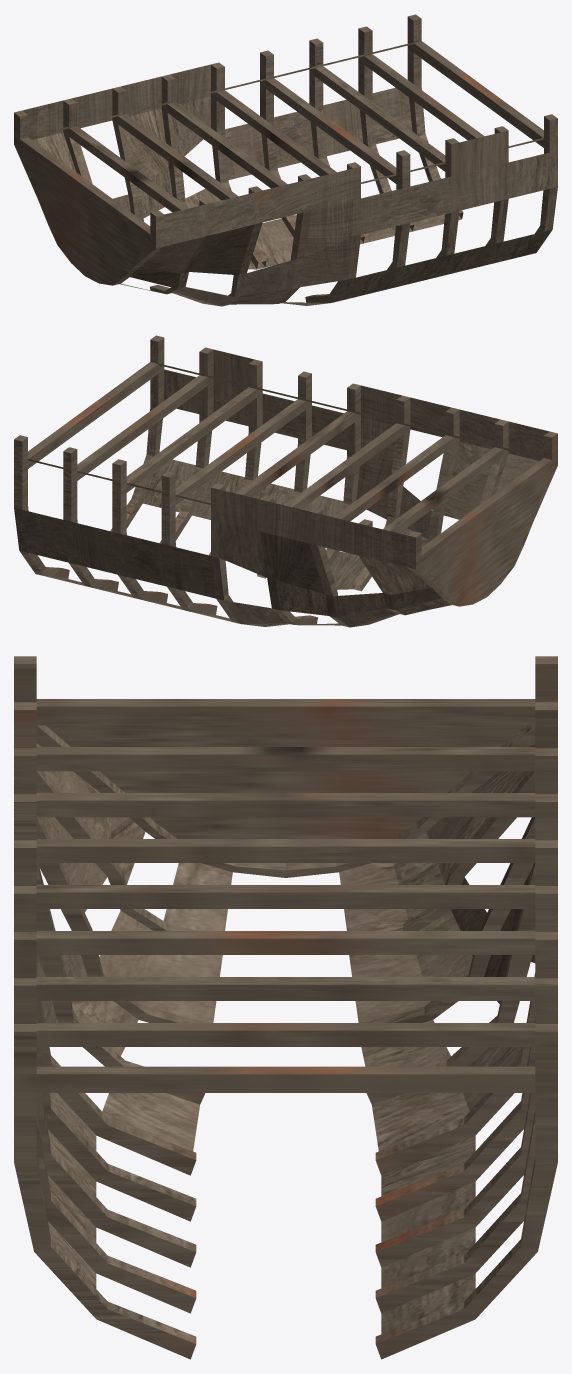
The model's file is P_Shipwreck.gltf.
3 views of the same model, one above another, from view 1: azimuth 30°, elevation 25°; view 2: azimuth 150°, elevation 25°; view 3: azimuth 270°, elevation 25° (orthographic). The views are drawn at different scales.
Visible parts, largest first — view 1: Cube; view 2: Cube; view 3: Cube.
Part boxes in pixels (x1=…): Cube: x1=14, y1=14, x2=557, y2=306; Cube: x1=14, y1=335, x2=557, y2=627; Cube: x1=14, y1=656, x2=557, y2=1359.
Bounding box in the file's own units: 44.3 × 18.05 × 27.13.
Materials: 2 (2 with a texture image).
